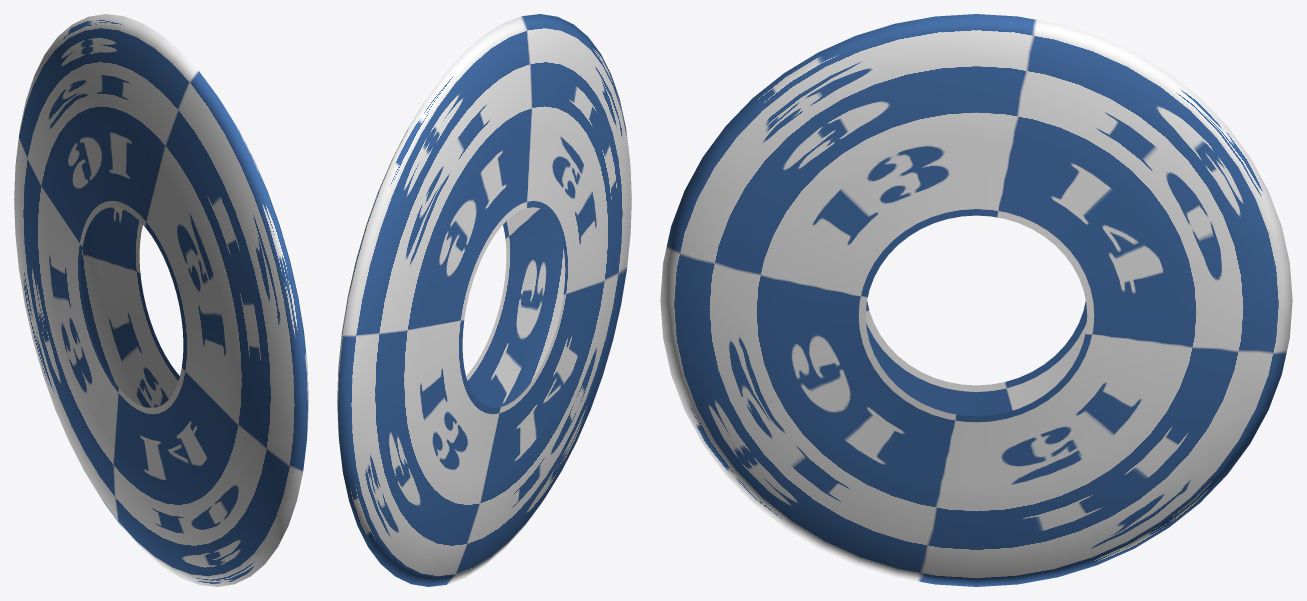
File: Slash14.fbx
3 views of the same model, side by side, from view 1: azimuth 30°, elevation 25°; view 2: azimuth 150°, elevation 25°; view 3: azimuth 270°, elevation 25° (orthographic). The views are drawn at different scales.
Parts seen in each view (by area): view 1: SM_e_DLC_Plc_P0013_Slash006; view 2: SM_e_DLC_Plc_P0013_Slash006; view 3: SM_e_DLC_Plc_P0013_Slash006.
Part boxes in pixels (<box>): SM_e_DLC_Plc_P0013_Slash006: <box>14,14,308,586</box>; SM_e_DLC_Plc_P0013_Slash006: <box>337,14,631,586</box>; SM_e_DLC_Plc_P0013_Slash006: <box>660,14,1292,586</box>.
Bounding box in the file's own units: 11.49 × 99.15 × 99.15.
